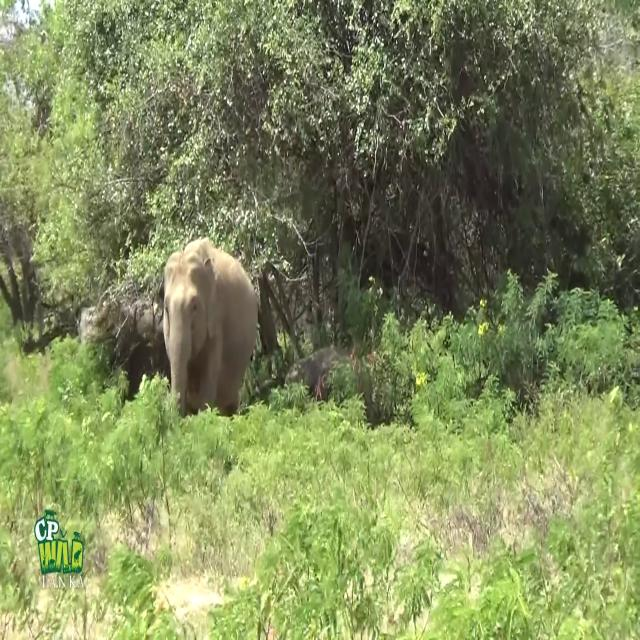Elephant: (161, 236, 262, 418)
